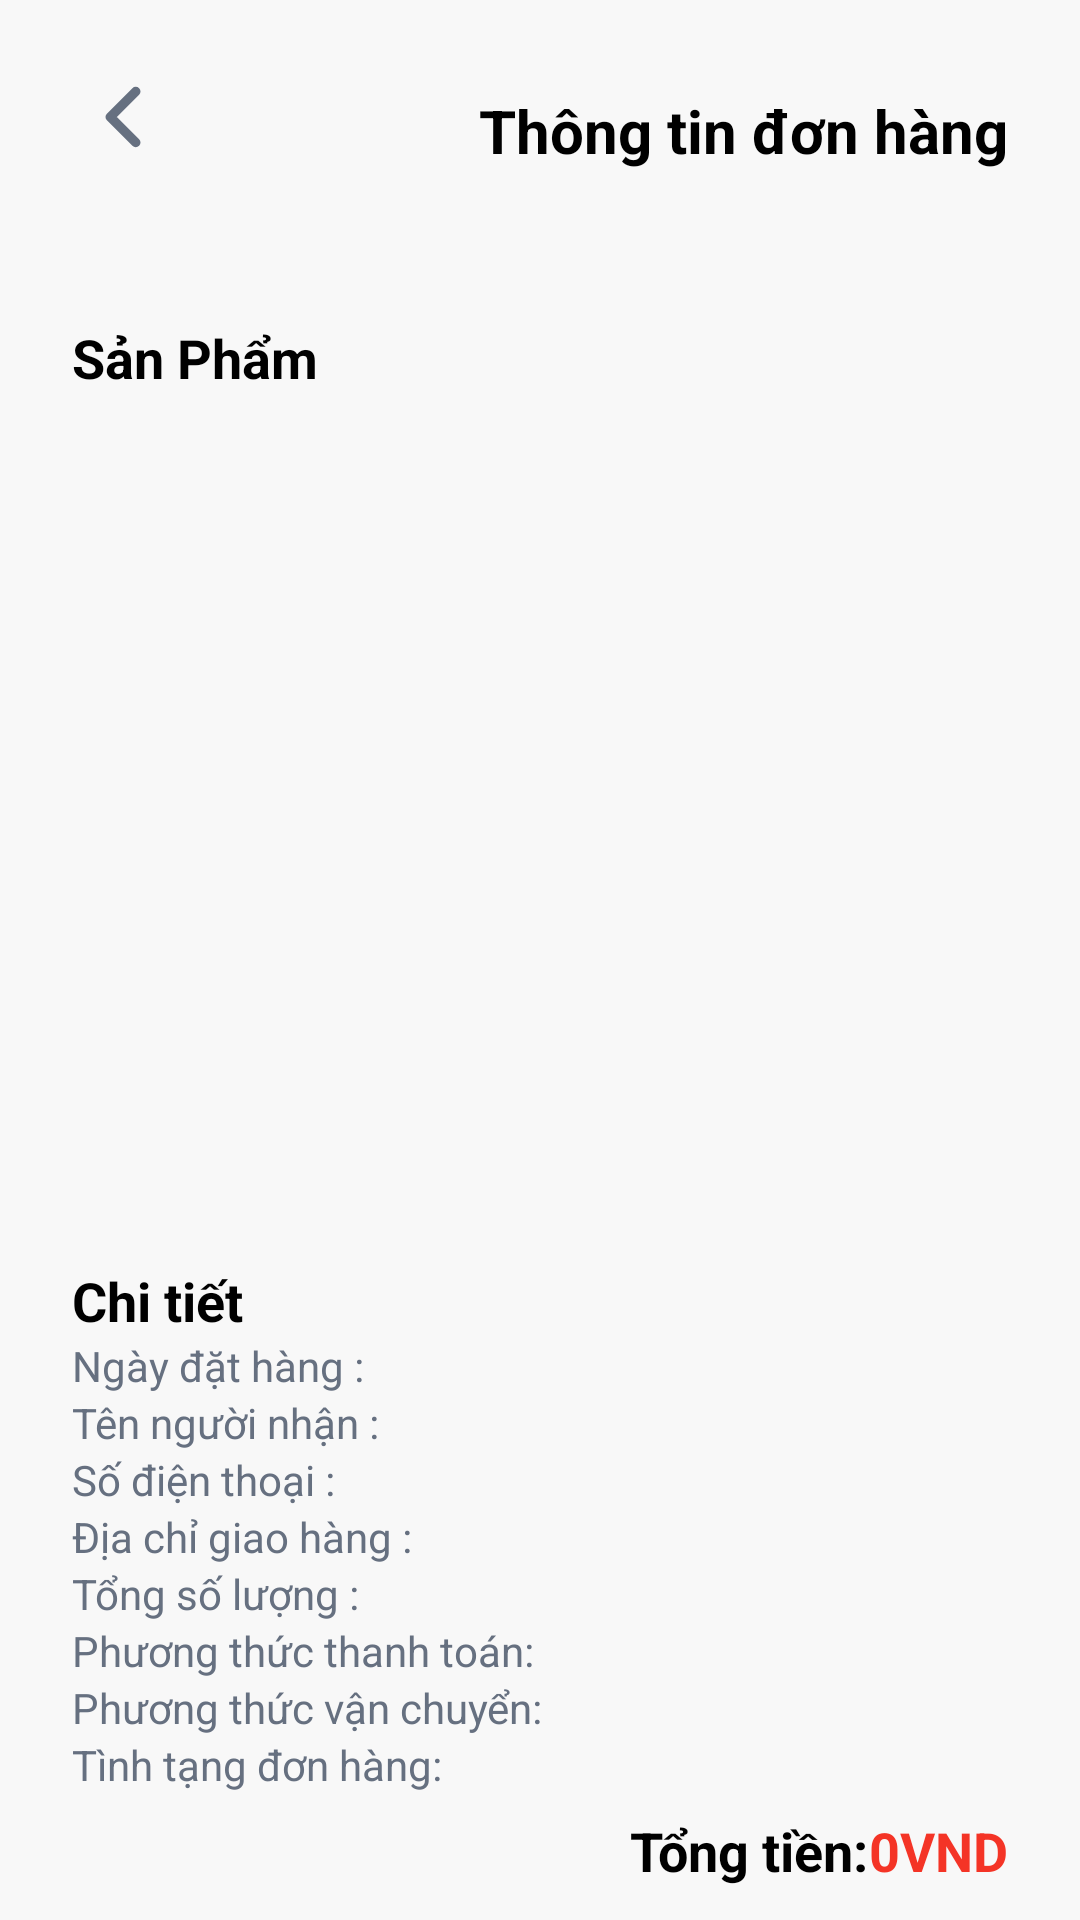

Screen size 1080×1920. Icon name, then its box in pixels as (x1, y1, x2, y2):
left: (105, 86, 141, 148)
